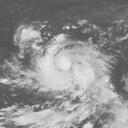cyclone: (32, 35, 112, 90)
